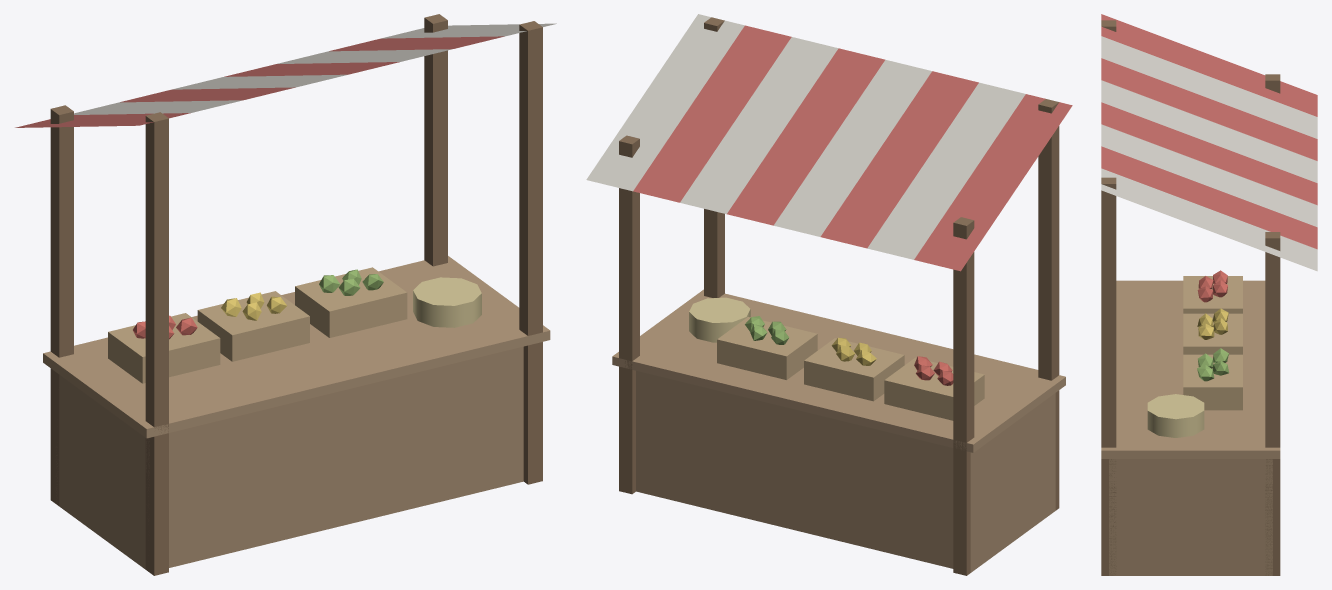
The model's file is stall.glb.
3 views of the same model, side by side, from view 1: azimuth 30°, elevation 25°; view 2: azimuth 150°, elevation 25°; view 3: azimuth 270°, elevation 25° (orthographic). The views are drawn at different scales.
Visible parts, largest first — view 1: stall; view 2: stall; view 3: stall.
Part boxes in pixels (box(x1,y1,x2,y2)): stall: box(15, 14, 556, 575); stall: box(586, 14, 1072, 575); stall: box(1101, 14, 1317, 575).
Bounding box in the file's own units: 2.8 × 2.9 × 1.45.
